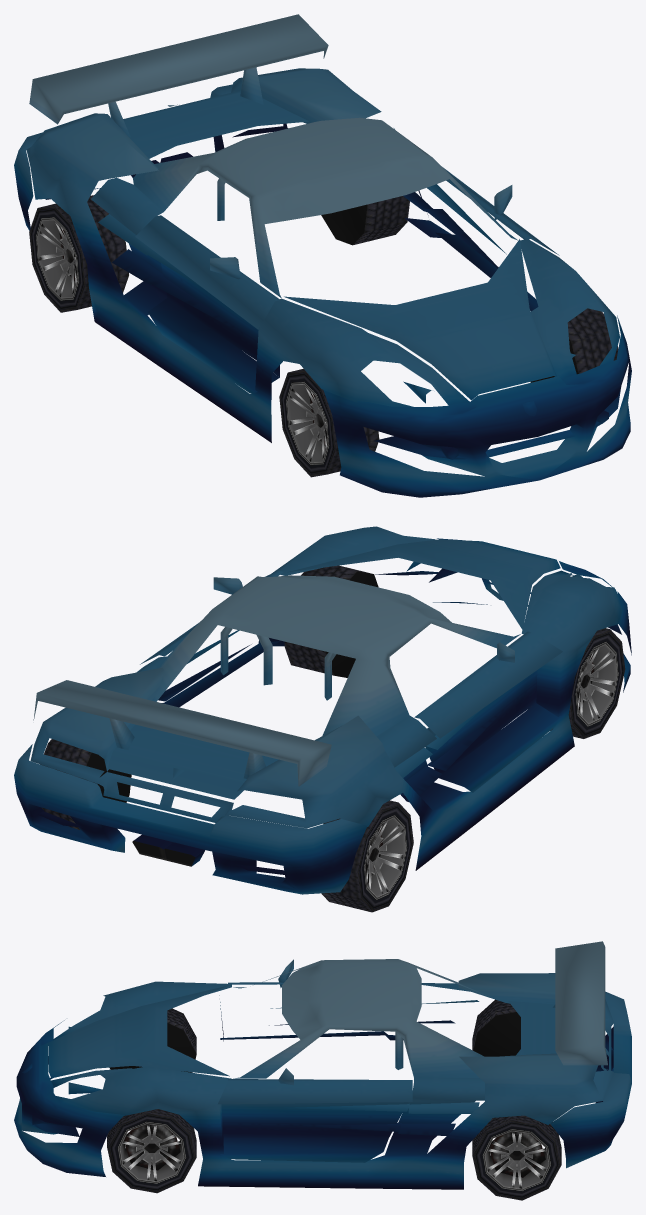
The model's file is car-SPRT_Car8.glb.
3 views of the same model, one above another, from view 1: azimuth 30°, elevation 25°; view 2: azimuth 150°, elevation 25°; view 3: azimuth 270°, elevation 25° (orthographic). The views are drawn at different scales.
Visible parts, largest first — view 1: SPRT_Car8; view 2: SPRT_Car8; view 3: SPRT_Car8.
Part boxes in pixels (bbox=[...]): SPRT_Car8: bbox=[14, 14, 631, 497]; SPRT_Car8: bbox=[14, 526, 631, 912]; SPRT_Car8: bbox=[14, 941, 631, 1200].
Bounding box in the file's own units: 2.11 × 1.15 × 4.29.
19 materials, 19 textured.
